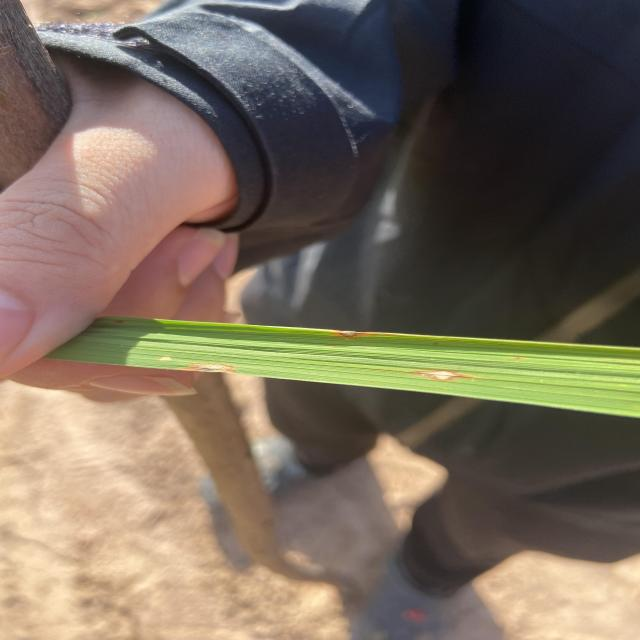Dao on: (414, 370, 474, 380), (178, 363, 233, 372), (335, 331, 359, 337)
